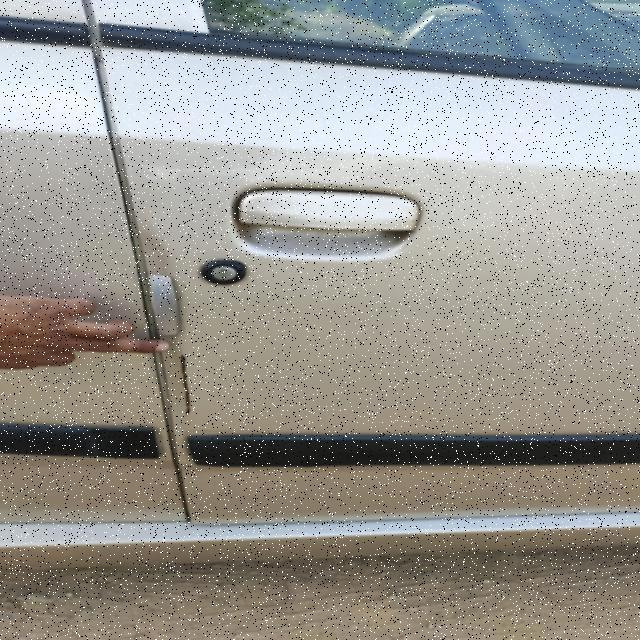doorouter-dent: (134, 55, 639, 521)
